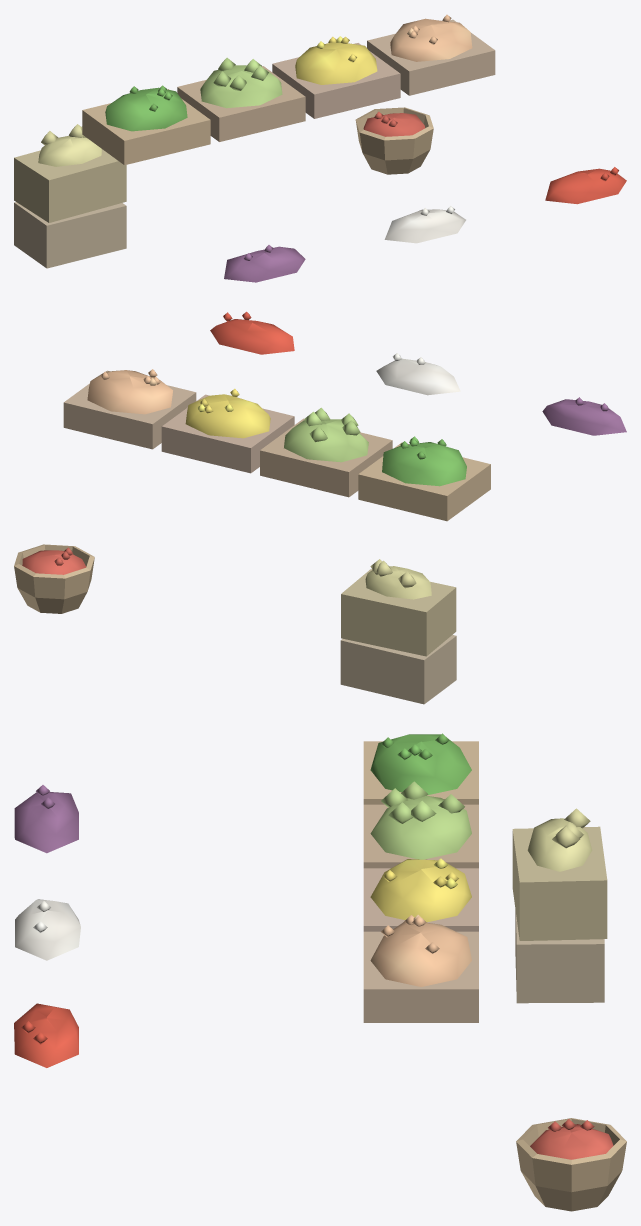
Rendered from SM_BM_BP_StallGoods_G.glb.
The picture shows the model from 3 angles, top to bottom: view 1: azimuth 30°, elevation 25°; view 2: azimuth 150°, elevation 25°; view 3: azimuth 270°, elevation 25°; orthographic projection. The views are drawn at different scales.
Visible parts, largest first — view 1: SM_BM_BP_StallGoods_G; view 2: SM_BM_BP_StallGoods_G; view 3: SM_BM_BP_StallGoods_G.
Boxes of the visible parts, x1,y1,x2,y2 form: SM_BM_BP_StallGoods_G: [14, 14, 626, 282]; SM_BM_BP_StallGoods_G: [14, 311, 626, 704]; SM_BM_BP_StallGoods_G: [14, 733, 626, 1211].
Bounding box in the file's own units: 2.82 × 1.26 × 2.65.
